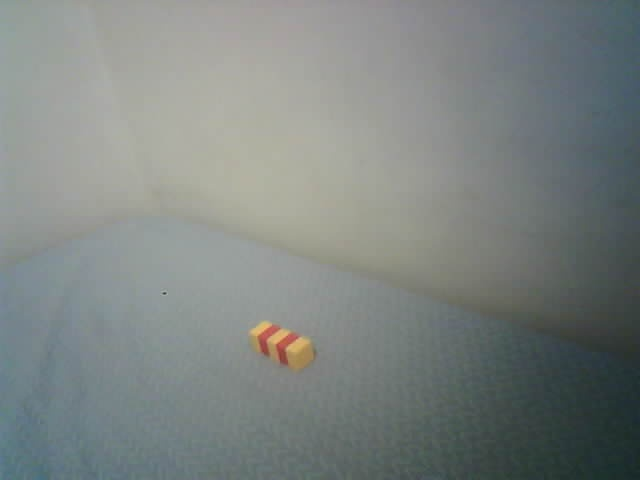lego: (248, 320, 314, 372)
